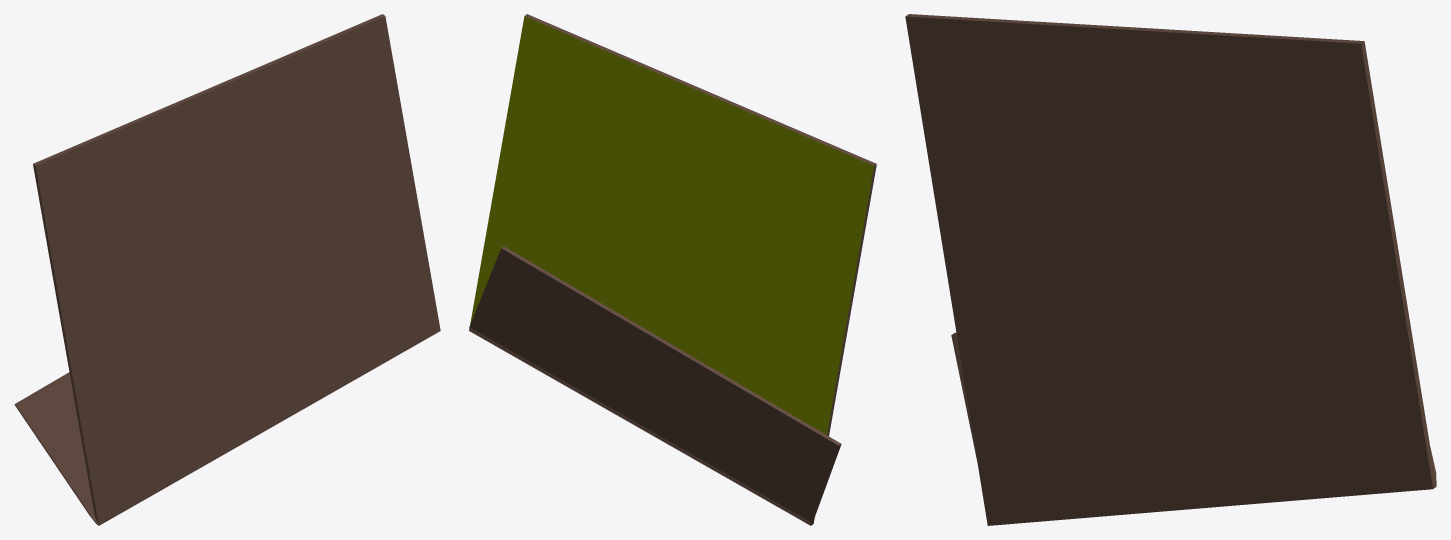
Rendered from lixa.fbx.
The picture shows the model from 3 angles, left to right: view 1: azimuth 30°, elevation 25°; view 2: azimuth 150°, elevation 25°; view 3: azimuth 330°, elevation 25°; orthographic projection. The views are drawn at different scales.
Visible parts, largest first — view 1: Lixa.001; view 2: Lixa.001; view 3: Lixa.001.
Boxes of the visible parts, x1,y1,x2,y2 form: Lixa.001: [14, 14, 440, 525]; Lixa.001: [469, 14, 876, 525]; Lixa.001: [905, 14, 1436, 525].
Size of the model in its own units: 0.1825 by 0.1894 by 0.0232.
